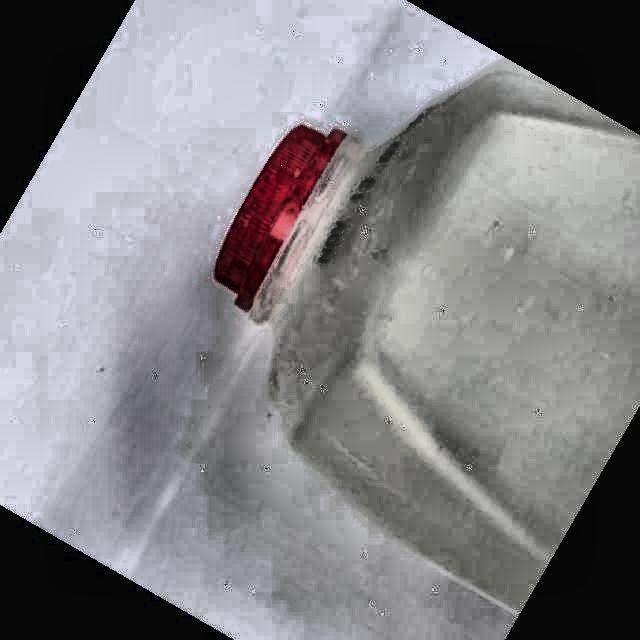plastic: (215, 61, 640, 608)
